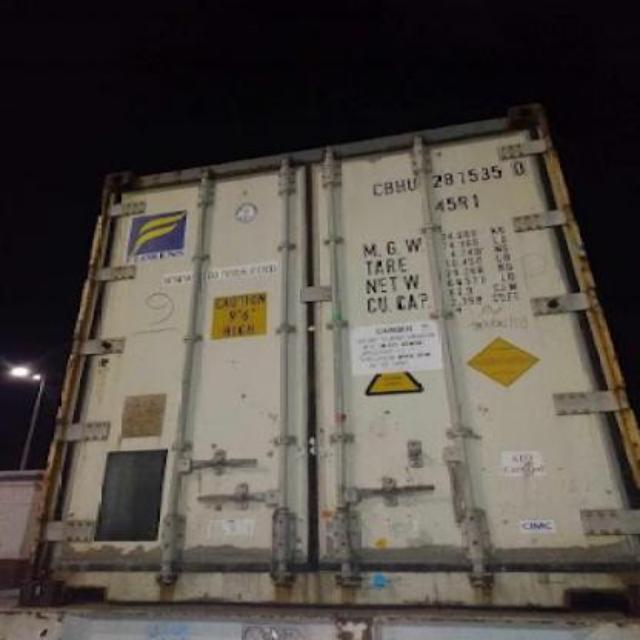0: (512, 160, 526, 176)
1: (456, 170, 468, 186)
2: (432, 176, 444, 188)
3: (481, 168, 494, 182)
5: (466, 168, 479, 184), (491, 164, 504, 180)
8: (444, 170, 456, 186)
B: (384, 182, 396, 196)
C: (372, 182, 384, 194)
H: (394, 180, 408, 192)
U: (404, 176, 418, 192)
